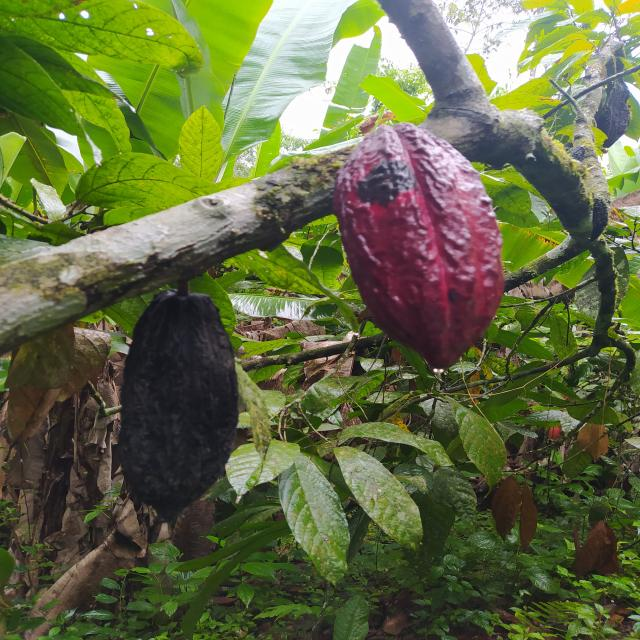Fitoftora: (335, 123, 505, 371), (116, 292, 241, 520)
